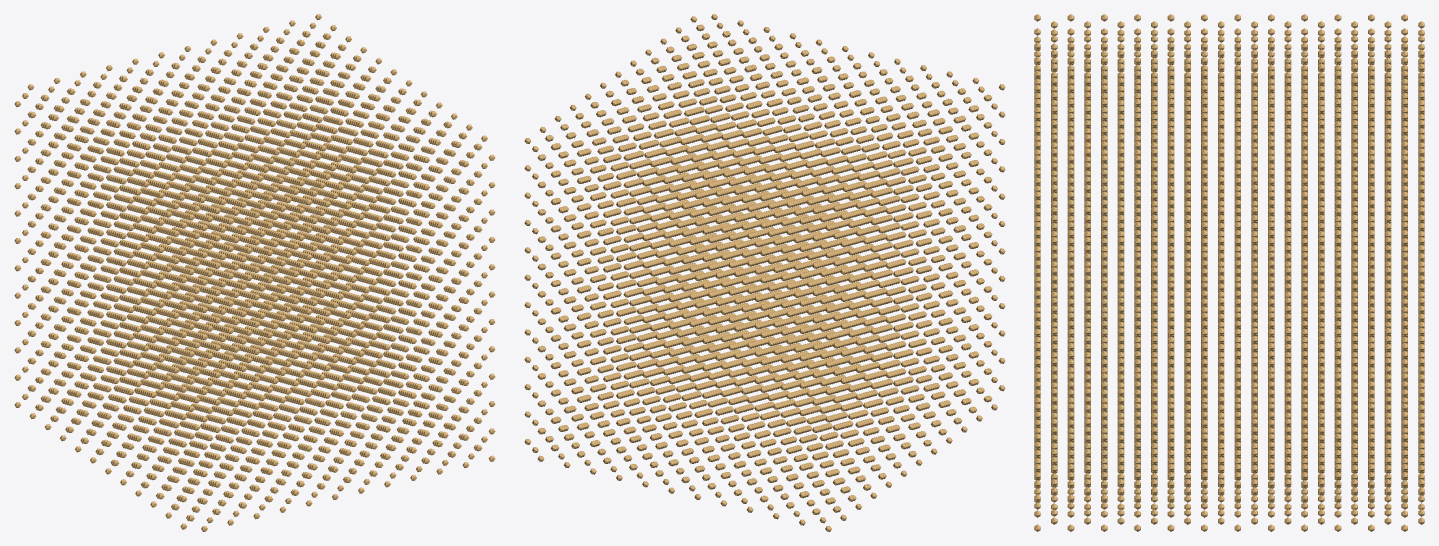
The model's file is dislocation_cu.glb.
3 views of the same model, side by side, from view 1: azimuth 30°, elevation 25°; view 2: azimuth 150°, elevation 25°; view 3: azimuth 270°, elevation 25° (orthographic). The views are drawn at different scales.
Bounding box in the file's own units: 42.23 × 42.23 × 42.23.
